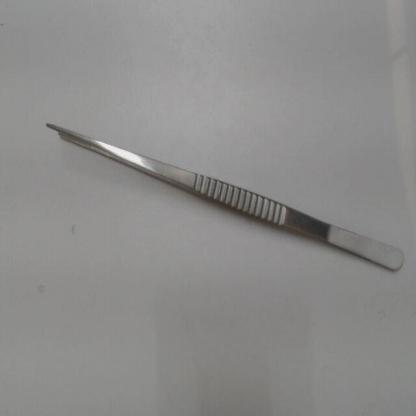DeBakey Dissector: (31, 109, 410, 289)
